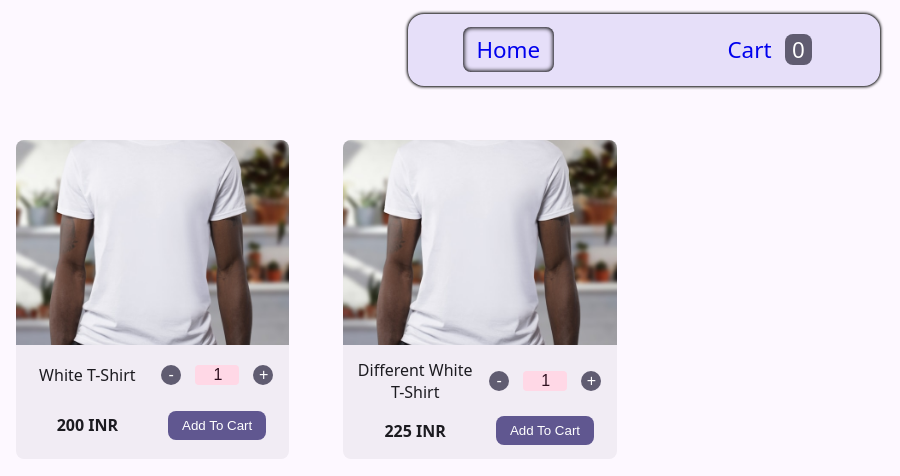
Test case: App › increments shopping cart items count in its bubble when Add To Cart is clicked
Step 1. Click the button "Add To Cart" in the row of "200" → (217, 425), box [168,411,266,440]
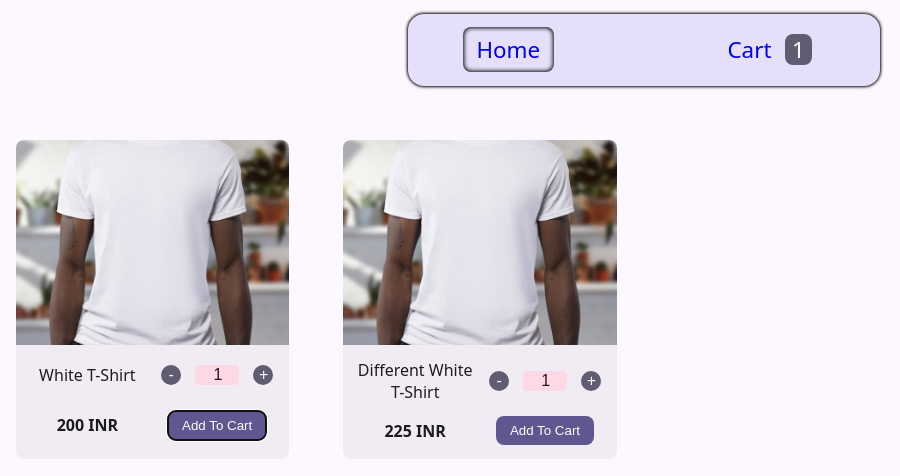
Step 2. Click the button "Add To Cart" in the row of "200" → (217, 425), box [168,411,266,440]
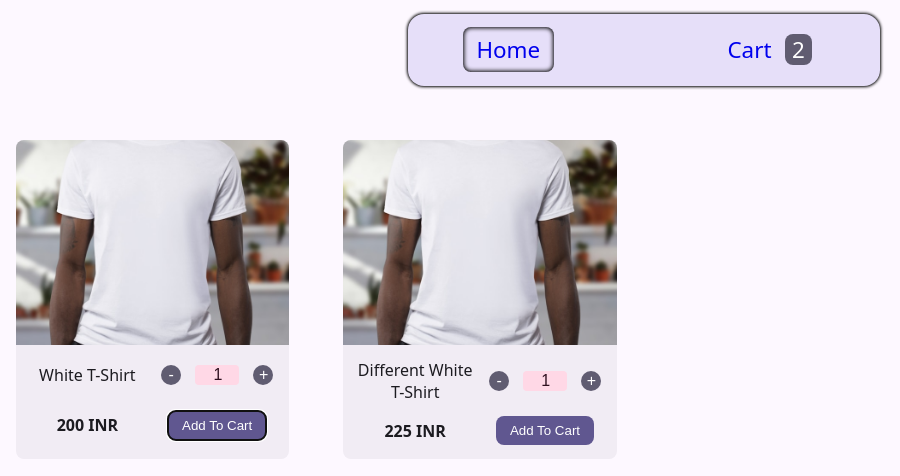
Step 3. Click the button "Add To Cart" in the row of "200" → (217, 425), box [168,411,266,440]
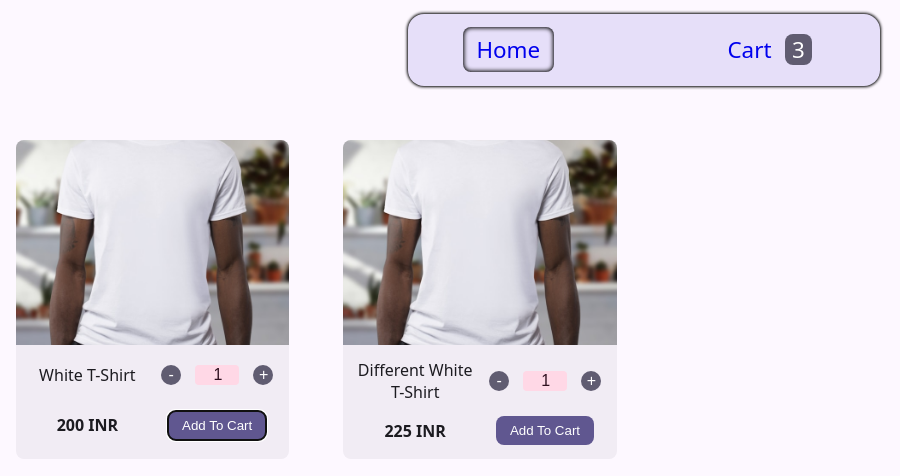
Expected: the message named "shopping cart items count" reads "3", [792,34,805,65]
